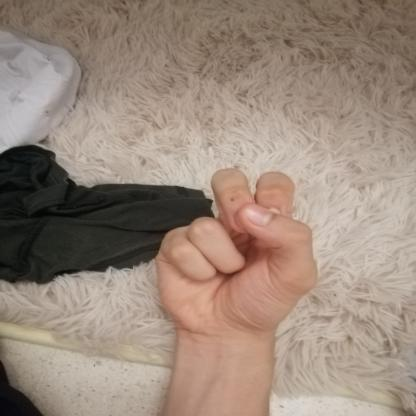QAAF: (136, 156, 338, 350)
